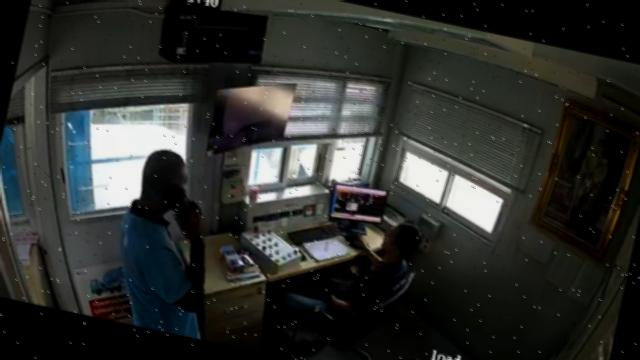Head: (134, 147, 208, 213), (374, 218, 425, 268)
People: (121, 150, 206, 337), (281, 223, 424, 321)
Phone: (166, 185, 192, 222)
